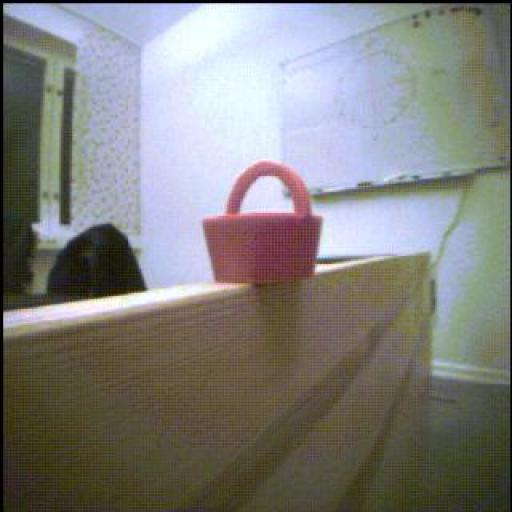Bucket: (204, 163, 323, 284)
